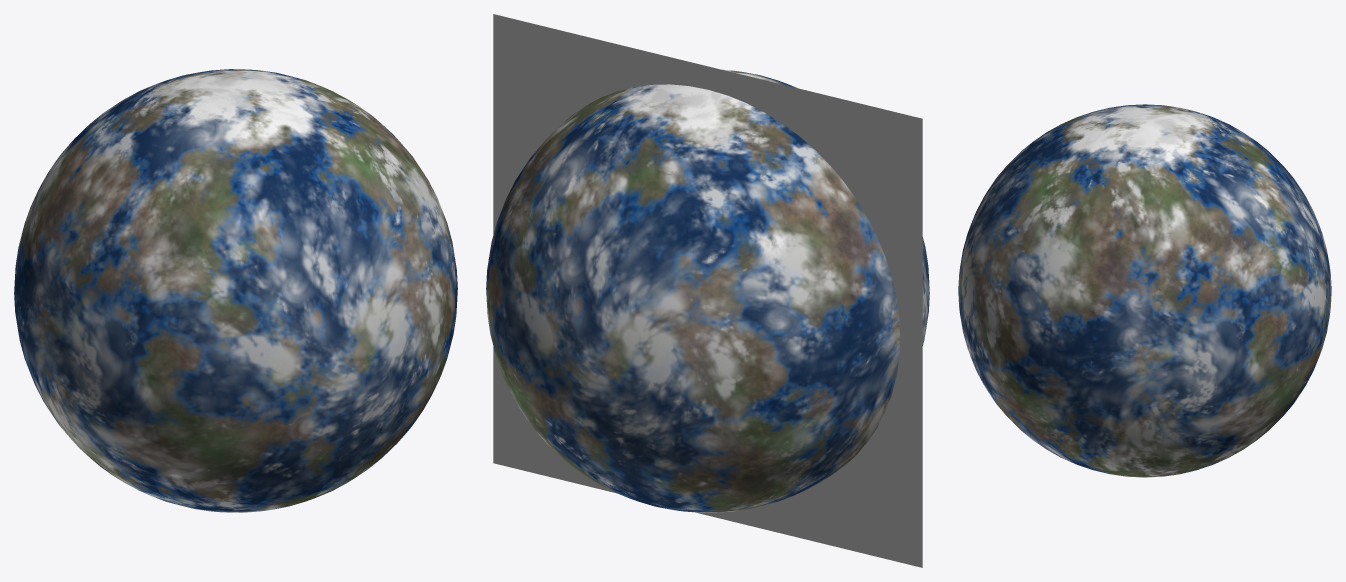
Rendered from planet_mesh.glb.
3 views of the same model, side by side, from view 1: azimuth 30°, elevation 25°; view 2: azimuth 150°, elevation 25°; view 3: azimuth 270°, elevation 25° (orthographic). The views are drawn at different scales.
Visible parts, largest first — view 1: planet_mesh; view 2: planet_mesh, atmosphere_mesh; view 3: planet_mesh.
Part boxes in pixels (box(x1,y1,x2,y2)): planet_mesh: box(14, 69, 457, 512); planet_mesh: box(486, 69, 929, 512); atmosphere_mesh: box(493, 14, 922, 567); planet_mesh: box(958, 104, 1331, 477).
Bounding box in the file's own units: 0.45 × 0.45 × 0.4033.
Materials: 2 (1 with a texture image).
